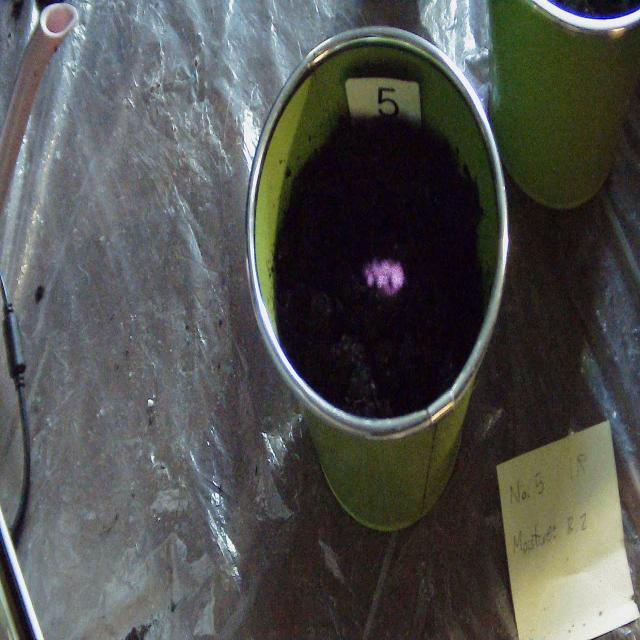soil-moisture-8.2: (363, 255, 404, 295)
